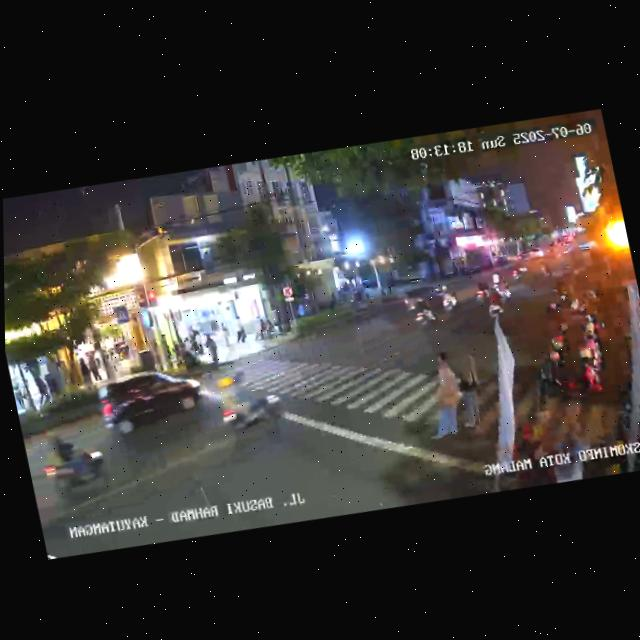car: (93, 360, 210, 444)
motorcycle: (210, 363, 288, 441), (36, 428, 113, 504), (411, 295, 441, 335), (488, 271, 514, 306), (436, 281, 461, 315), (471, 277, 492, 307), (510, 262, 528, 285)
person: (417, 361, 466, 442), (450, 351, 490, 431), (205, 331, 222, 366), (76, 354, 94, 386), (432, 351, 455, 374), (88, 349, 104, 382), (12, 384, 26, 411), (220, 320, 233, 348), (194, 330, 207, 357), (235, 321, 248, 346)
